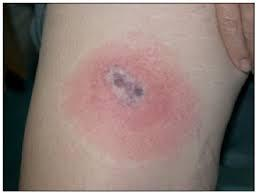Spider: (82, 48, 184, 150)
